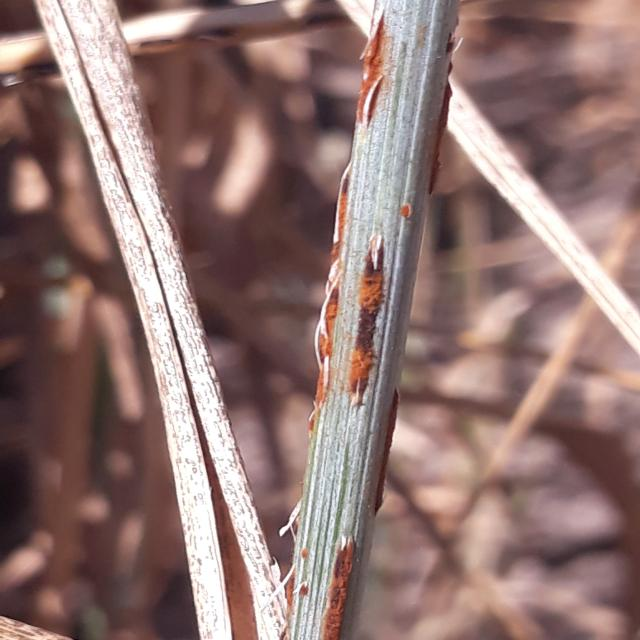black_stem_rust: (2, 0, 488, 640)
